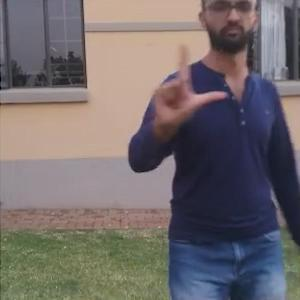land_hand: (146, 36, 231, 138)
